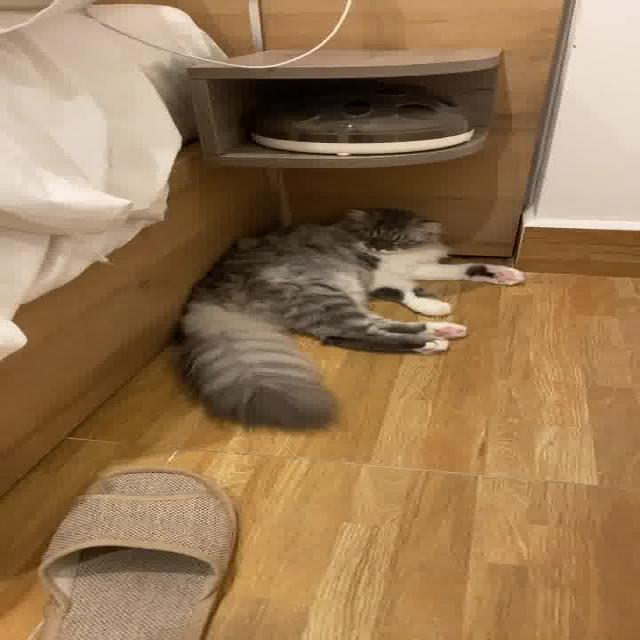cat: (163, 198, 542, 437)
